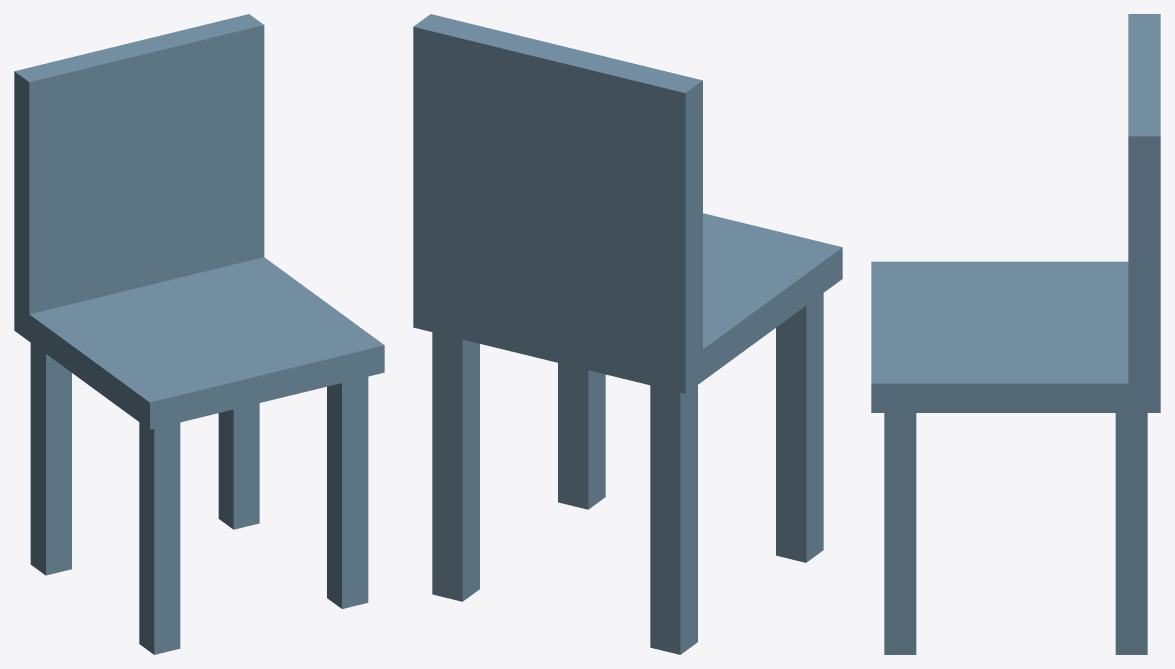
File: test-chair-0.9m.glb
The picture shows the model from 3 angles, left to right: view 1: azimuth 30°, elevation 25°; view 2: azimuth 150°, elevation 25°; view 3: azimuth 270°, elevation 25°; orthographic projection. The views are drawn at different scales.
Size of the model in its own units: 0.45 by 0.9 by 0.45.
